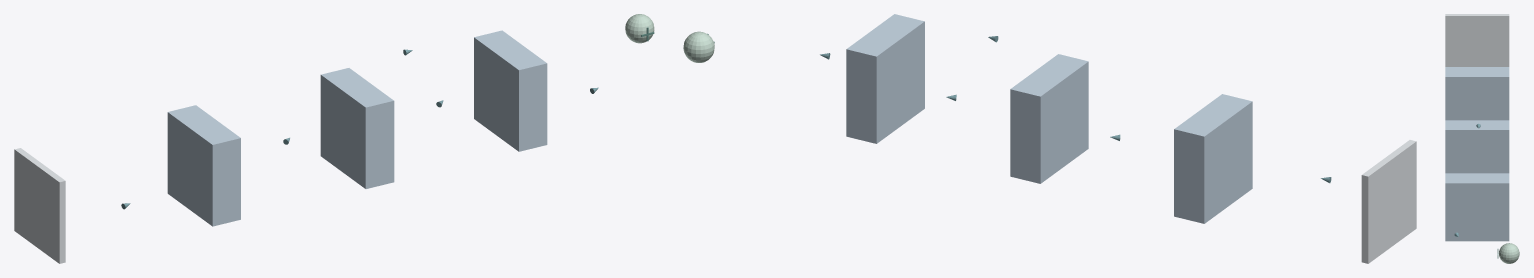
File: inverted-residual.glb
3 views of the same model, side by side, from view 1: azimuth 30°, elevation 25°; view 2: azimuth 150°, elevation 25°; view 3: azimuth 270°, elevation 25° (orthographic). The views are drawn at different scales.
Visible parts, largest first — view 1: 3×3 depthwise · BN + ReLU6 · tC × H × W, 1×1 linear · BN · C × H × W, 1×1 expand · BN + ReLU6 · tC × H × W, Input · C × H × W, Add · C × H × W; view 2: 1×1 expand · BN + ReLU6 · tC × H × W, 1×1 linear · BN · C × H × W, 3×3 depthwise · BN + ReLU6 · tC × H × W, Input · C × H × W, Add · C × H × W; view 3: 1×1 linear · BN · C × H × W, 1×1 expand · BN + ReLU6 · tC × H × W, 3×3 depthwise · BN + ReLU6 · tC × H × W, Input · C × H × W, Add · C × H × W.
Boxes of the visible parts, left/top/right/bottom form: 3×3 depthwise · BN + ReLU6 · tC × H × W: left=320, top=68, right=394, bottom=188; 1×1 linear · BN · C × H × W: left=474, top=30, right=547, bottom=151; 1×1 expand · BN + ReLU6 · tC × H × W: left=167, top=105, right=240, bottom=226; Input · C × H × W: left=14, top=148, right=65, bottom=263; Add · C × H × W: left=625, top=14, right=654, bottom=43; 1×1 expand · BN + ReLU6 · tC × H × W: left=1174, top=94, right=1252, bottom=223; 1×1 linear · BN · C × H × W: left=846, top=14, right=924, bottom=143; 3×3 depthwise · BN + ReLU6 · tC × H × W: left=1010, top=54, right=1088, bottom=183; Input · C × H × W: left=1361, top=140, right=1416, bottom=263; Add · C × H × W: left=683, top=31, right=714, bottom=62; 1×1 linear · BN · C × H × W: left=1445, top=173, right=1509, bottom=241; 1×1 expand · BN + ReLU6 · tC × H × W: left=1445, top=67, right=1509, bottom=120; 3×3 depthwise · BN + ReLU6 · tC × H × W: left=1445, top=120, right=1509, bottom=173; Input · C × H × W: left=1445, top=14, right=1509, bottom=66; Add · C × H × W: left=1499, top=243, right=1519, bottom=263.
Size of the model in its own units: 22.5 by 3.61 by 3.2.
